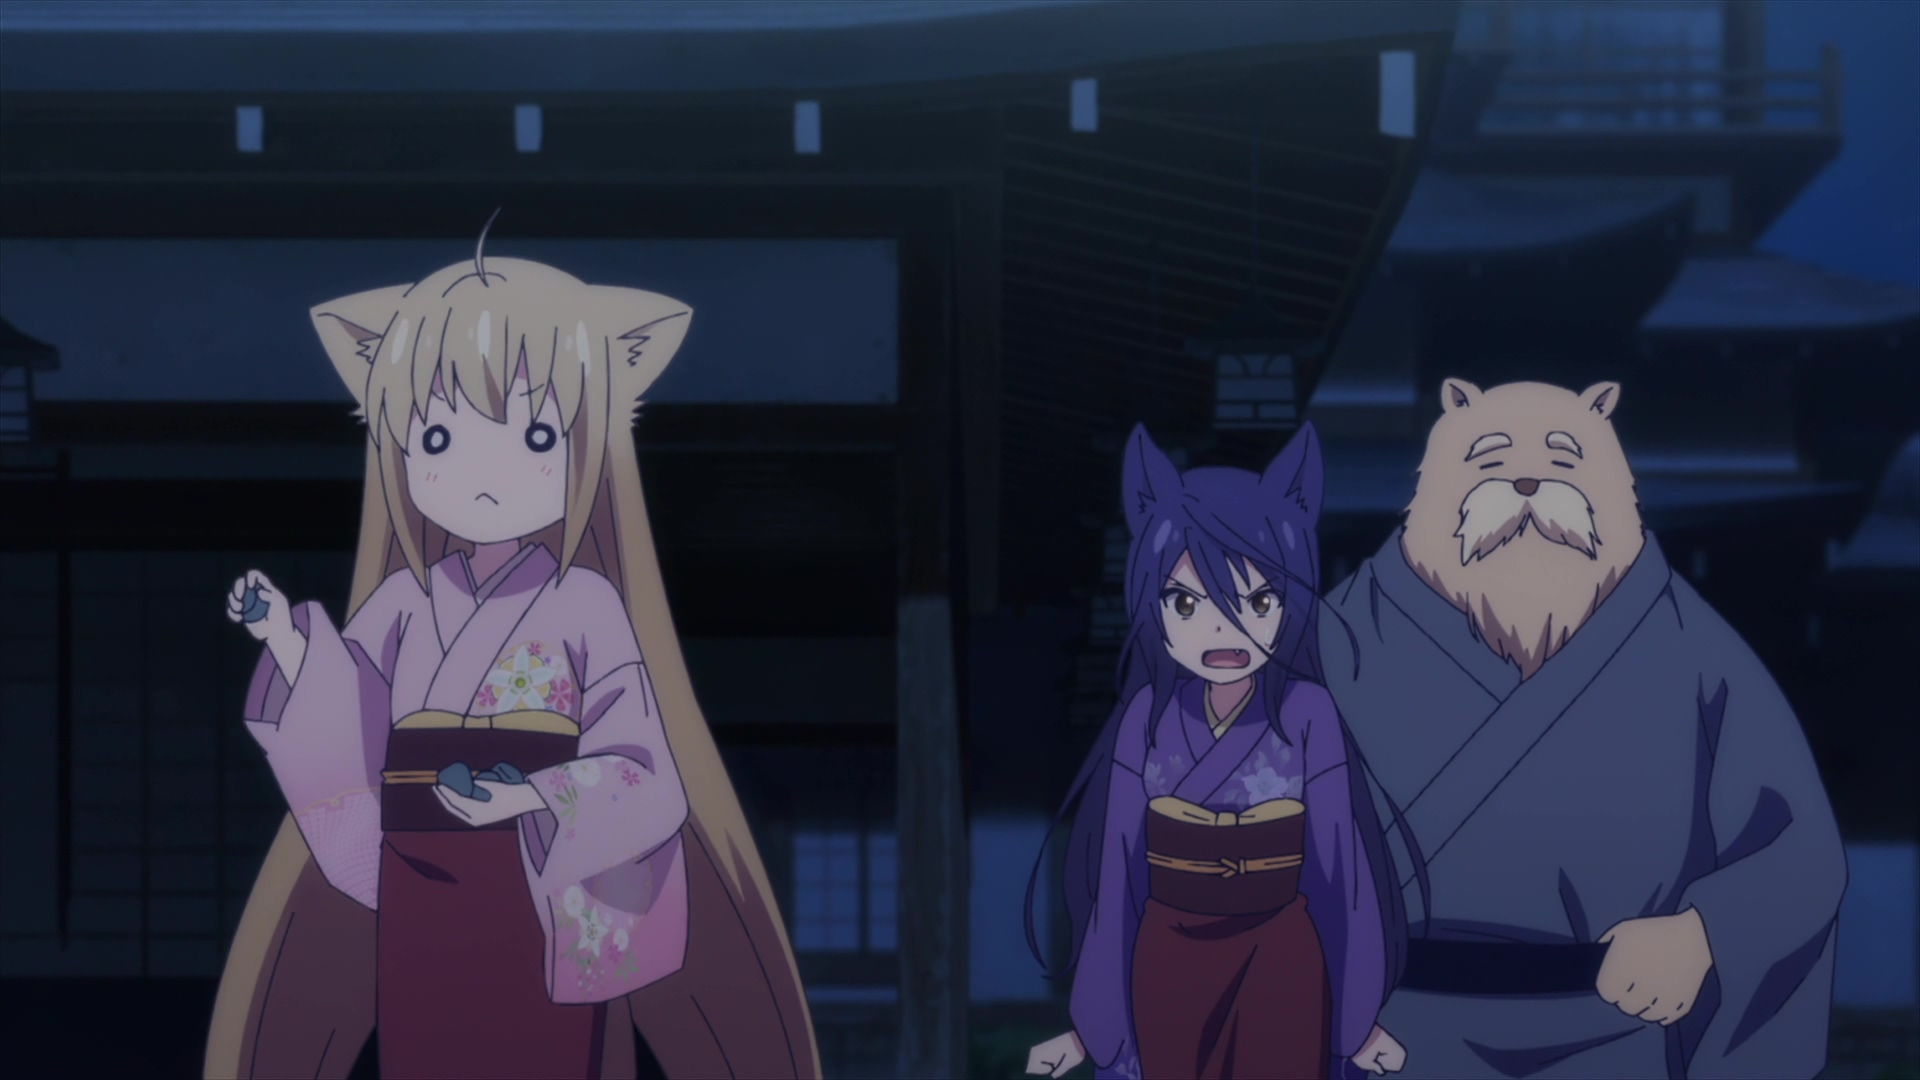柚: (200, 206, 822, 1080)
皋: (1025, 422, 1408, 1080)
药店老板: (1315, 375, 1847, 1080)
